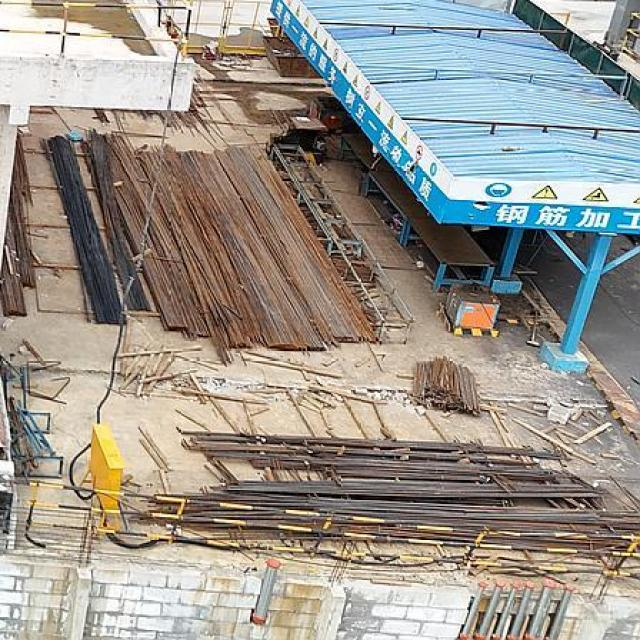Guardrail: (14, 479, 640, 580), (0, 0, 193, 59)
